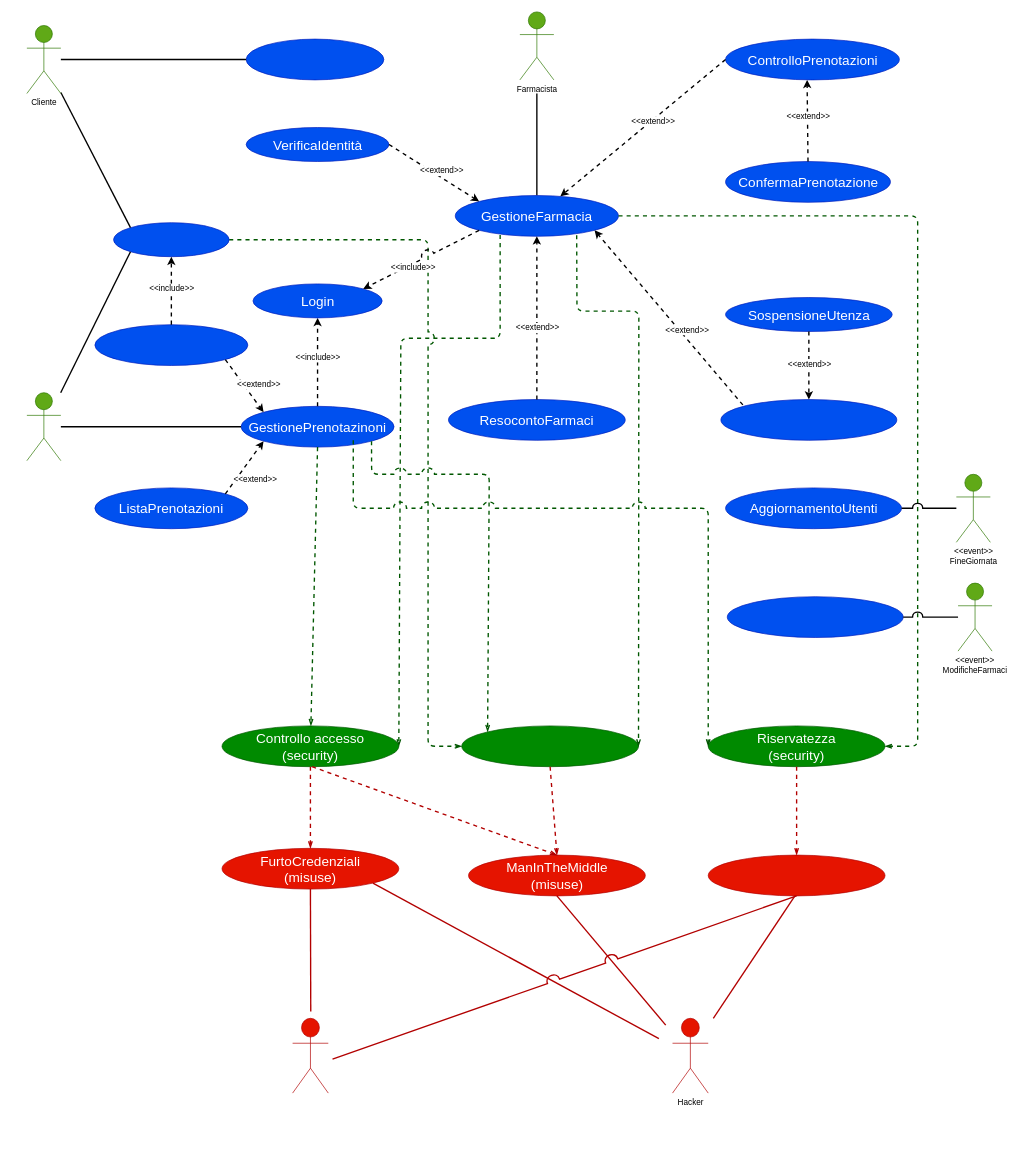
The diagram is 1019 pixels wide and 1165 high, and some of its shapes have lost their labels. The centre of each missing label's shape, as x and y in pixels:
AggiornamentoFarmaci: point (815, 617)
Cliente Registrato: point (43, 426)
ControlloUtenti: point (808, 419)
Integrità (security): point (550, 746)
NuovaPrenotazione: point (171, 345)
Registrazione: point (314, 59)
Ricerca Farmaci: point (171, 239)
Sniffing (misuse): point (796, 875)
Truffatore: point (310, 1055)
